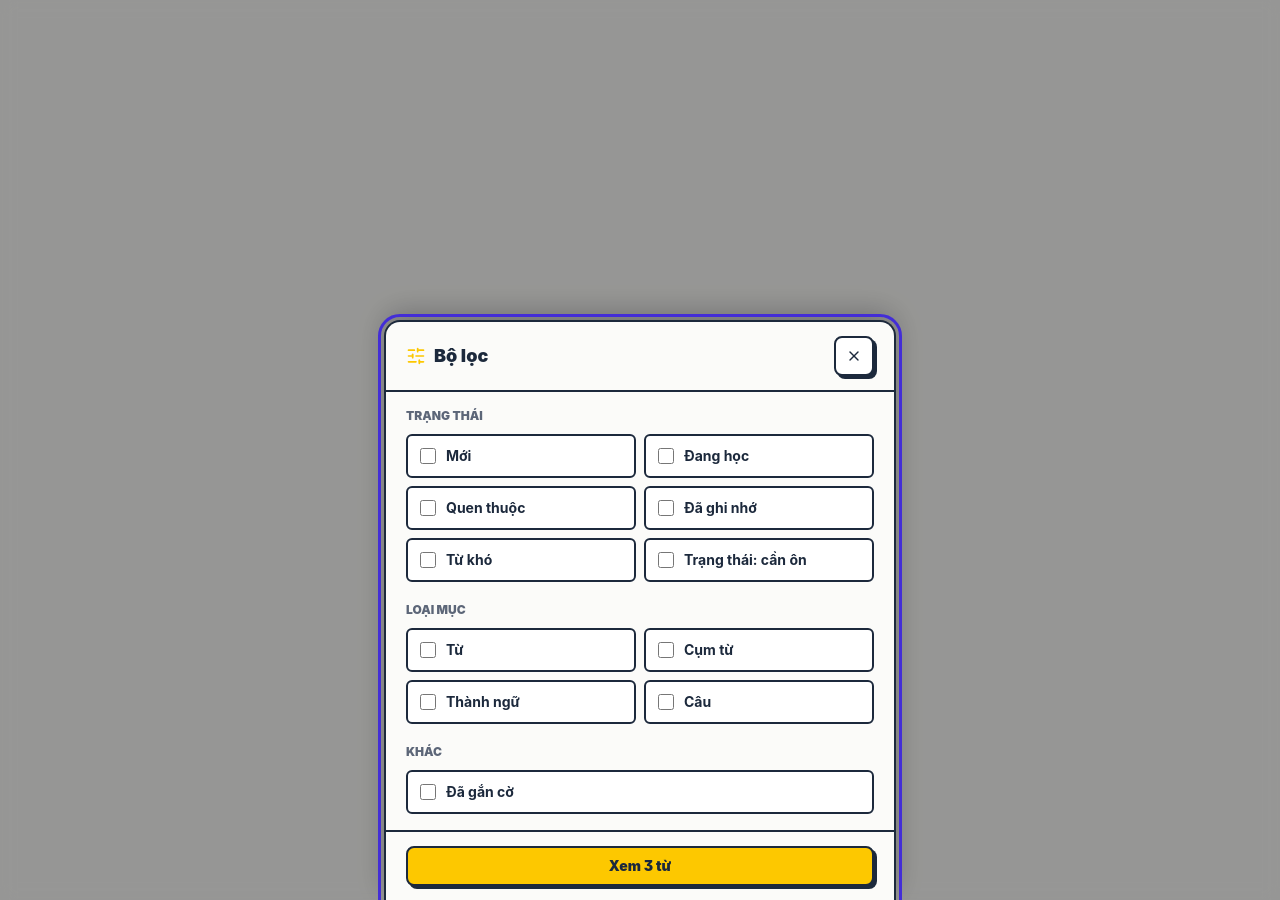
Test case: FilterModal › cho biết số từ sẽ hiển thị trước khi áp dụng
Expected: the button "Xem 3 từ" is shown, [406,846,874,886]
Click the checkbox labelled "Từ khó". click: (428, 560)
box: [420,552,436,568]
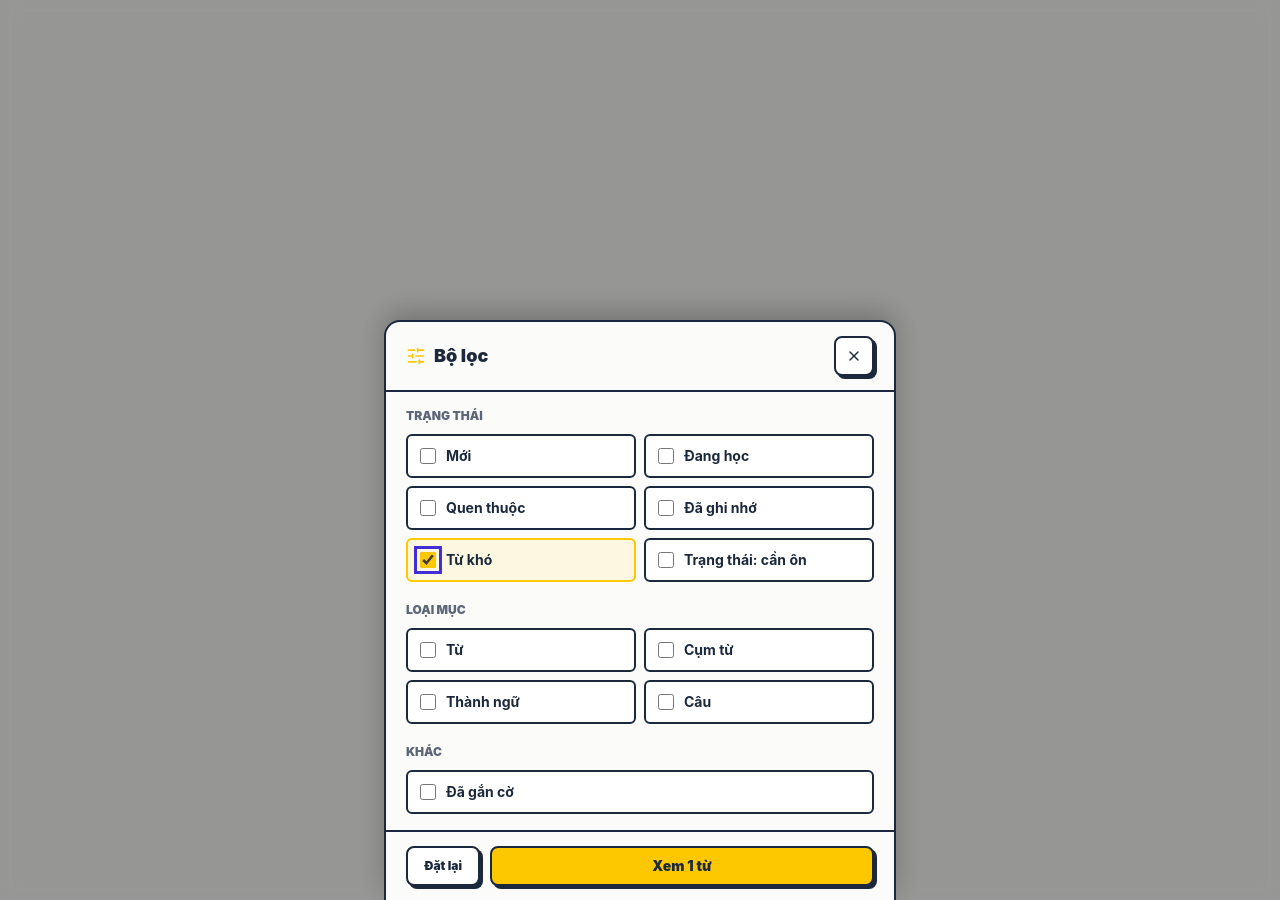
Expected: the button "Xem 1 từ" is shown, [490,846,874,886]
